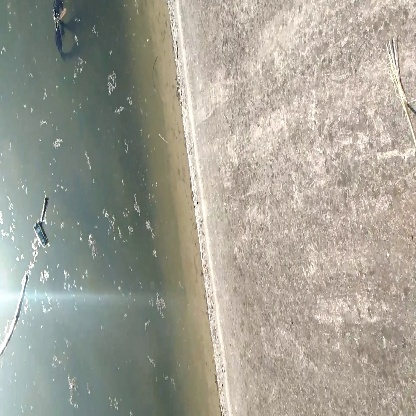branch: (3, 272, 32, 358)
milk-box: (33, 222, 56, 248)
